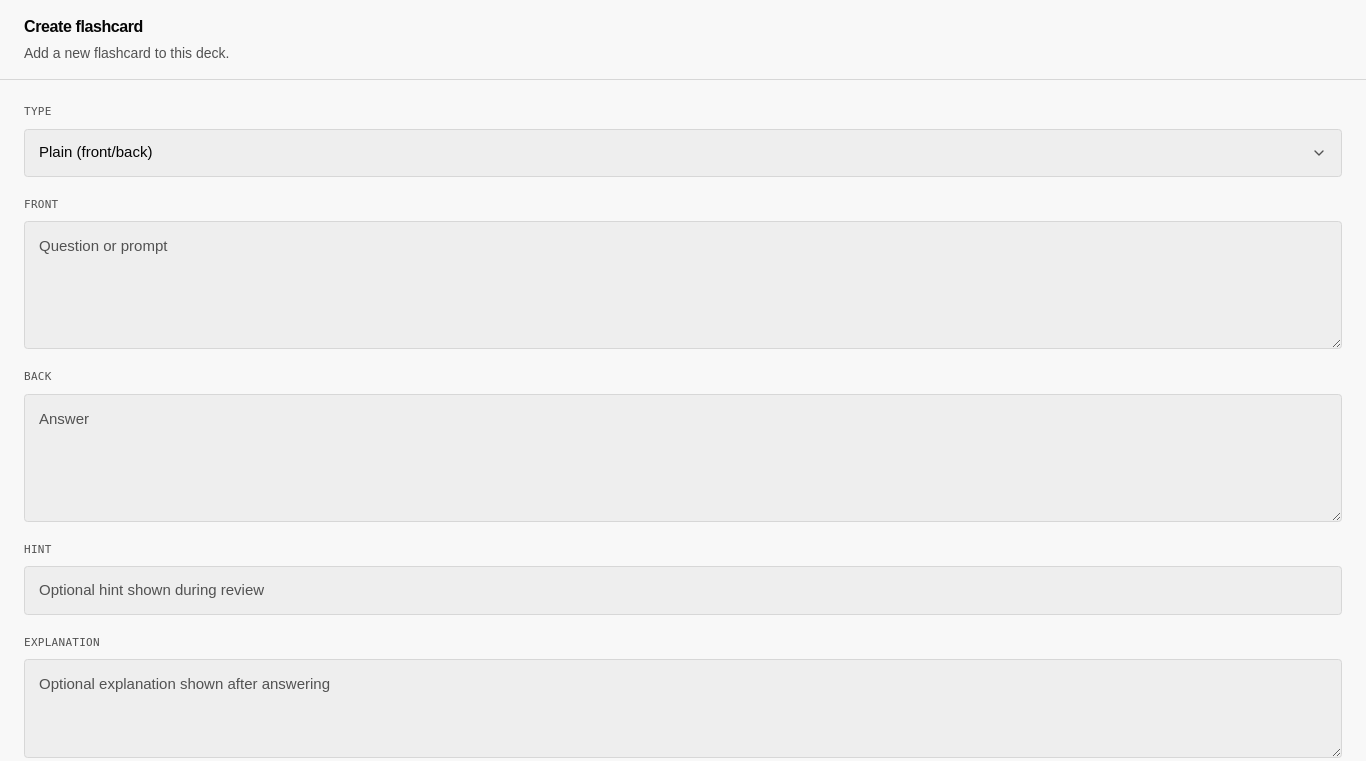
CardForm › validation › shows 'Select the correct choice' error when no correct choice is picked
Click the dropdown named "type". click: [96, 152]
box: [24,128,1342,176]
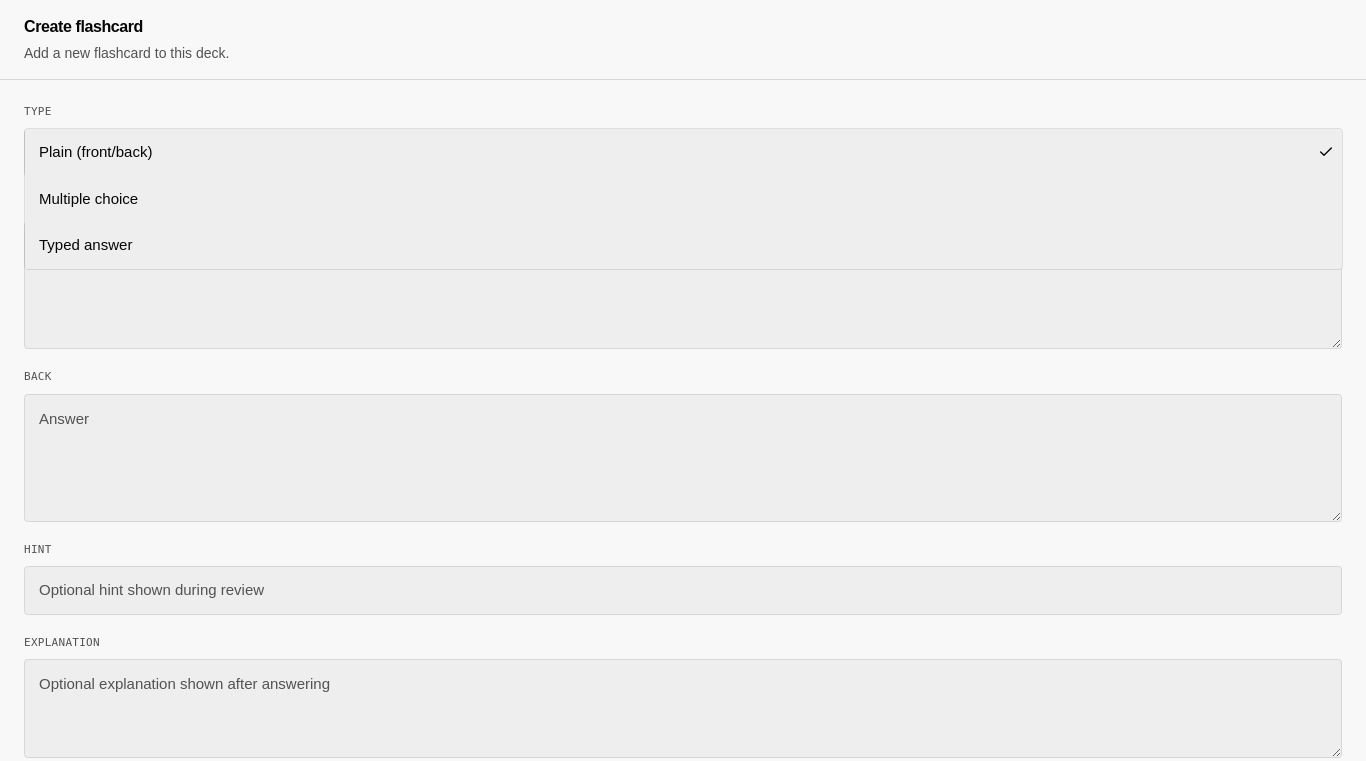
Click the option "Multiple choice". click: [89, 198]
box: [25,176,1342,222]
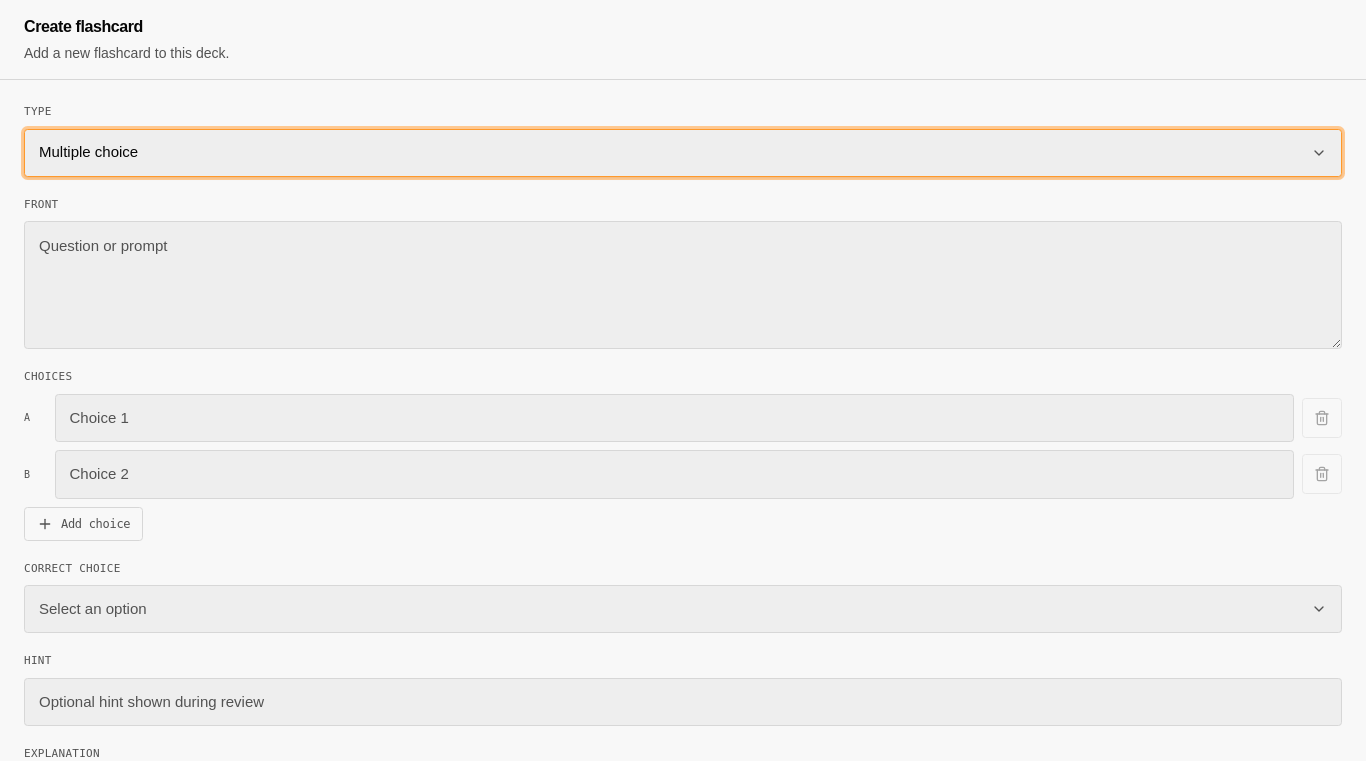
Expected: the list is gone
Type "Largest planet?" into the text box labelled "Front". click: [683, 285]
box: [24,221,1342,349]
(page scrolled)
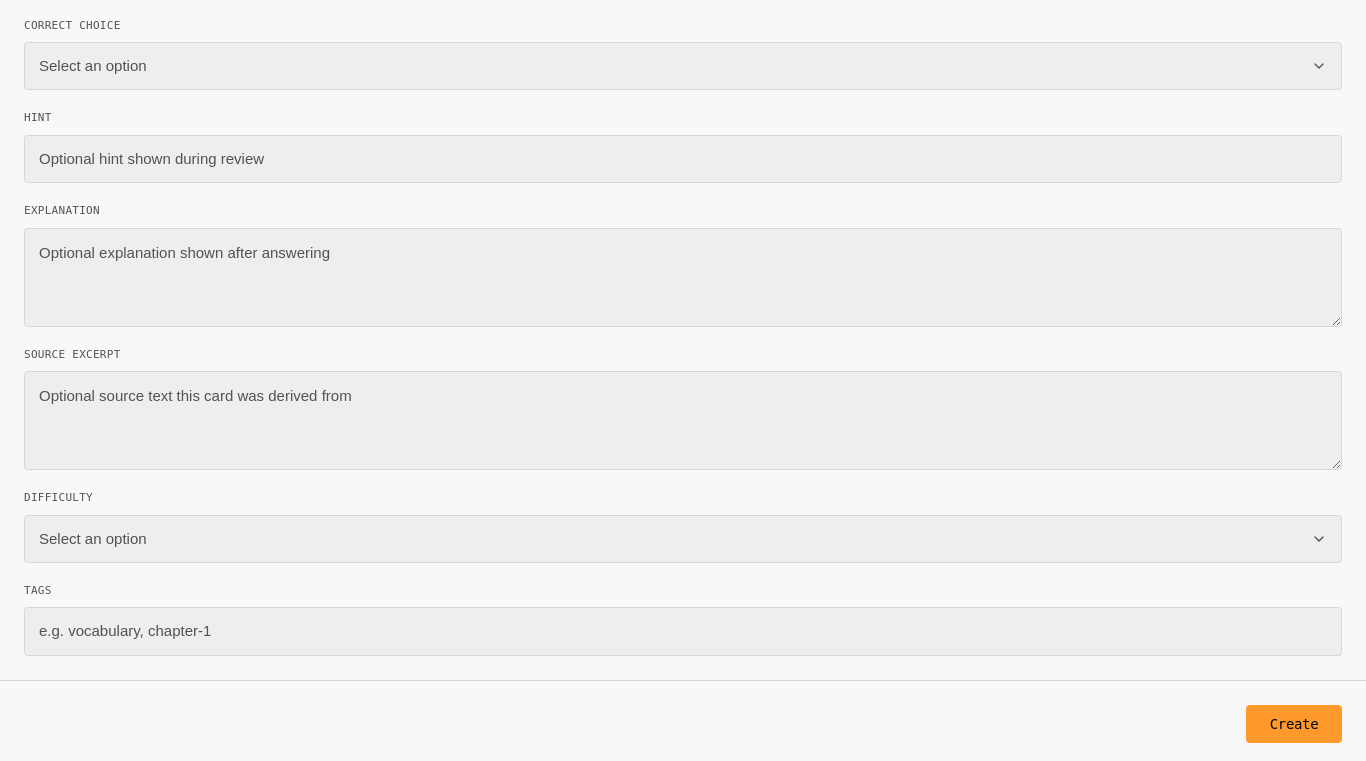
Click the button "Create". click: [1294, 724]
box: [1246,705,1342,743]
(page scrolled)
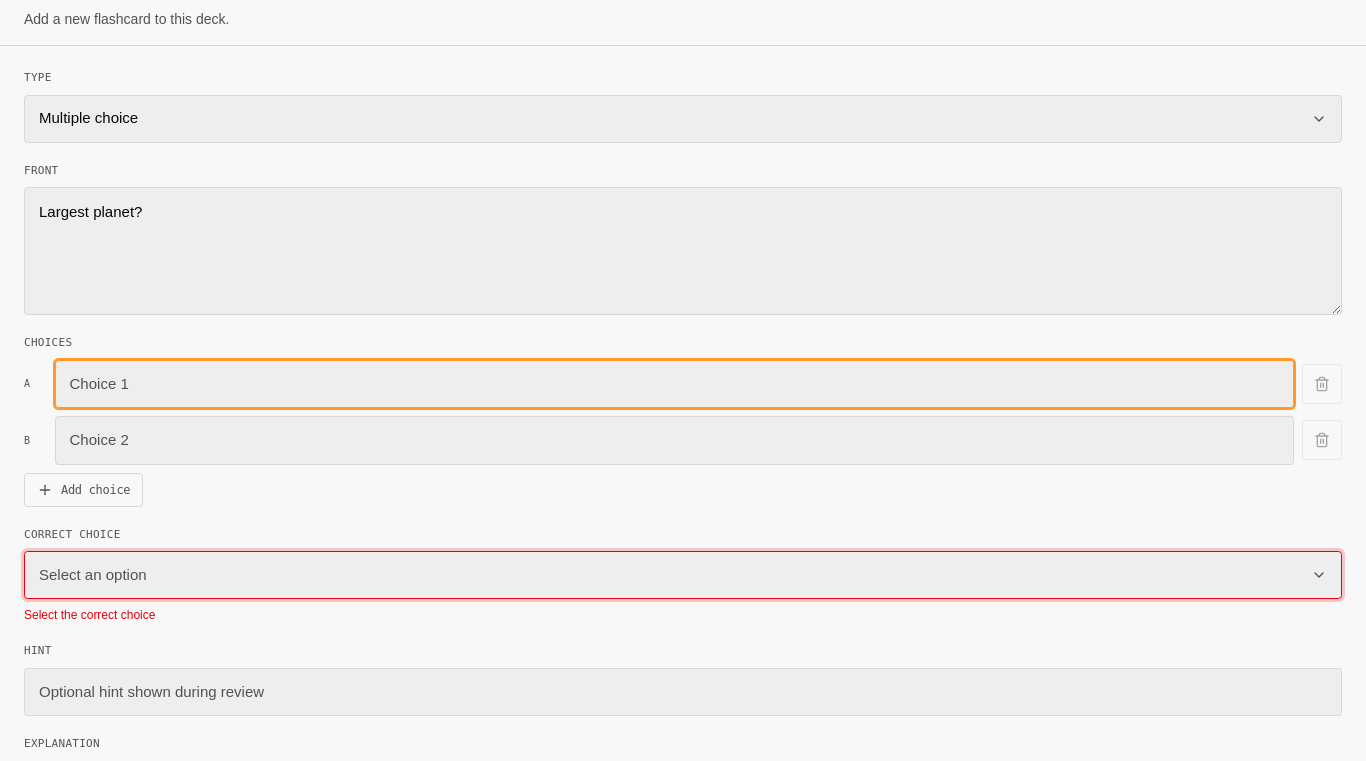
Expected: the text "Select the correct choice" is shown, [24,608,155,622]
